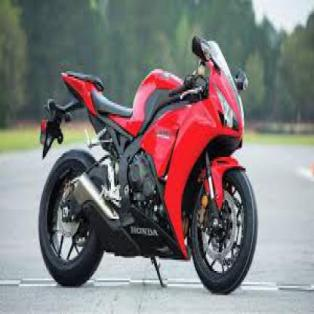Motocicleta: (35, 33, 262, 299)
